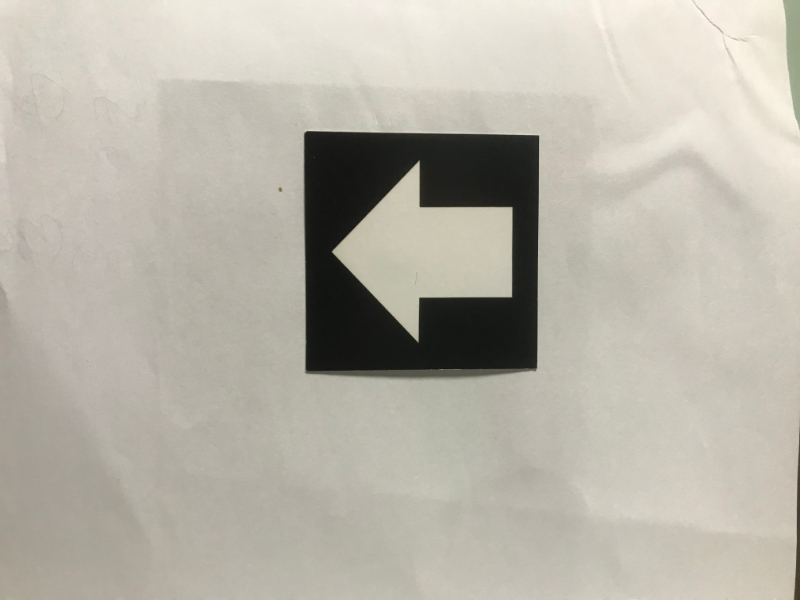UA-1: (313, 141, 532, 362)
